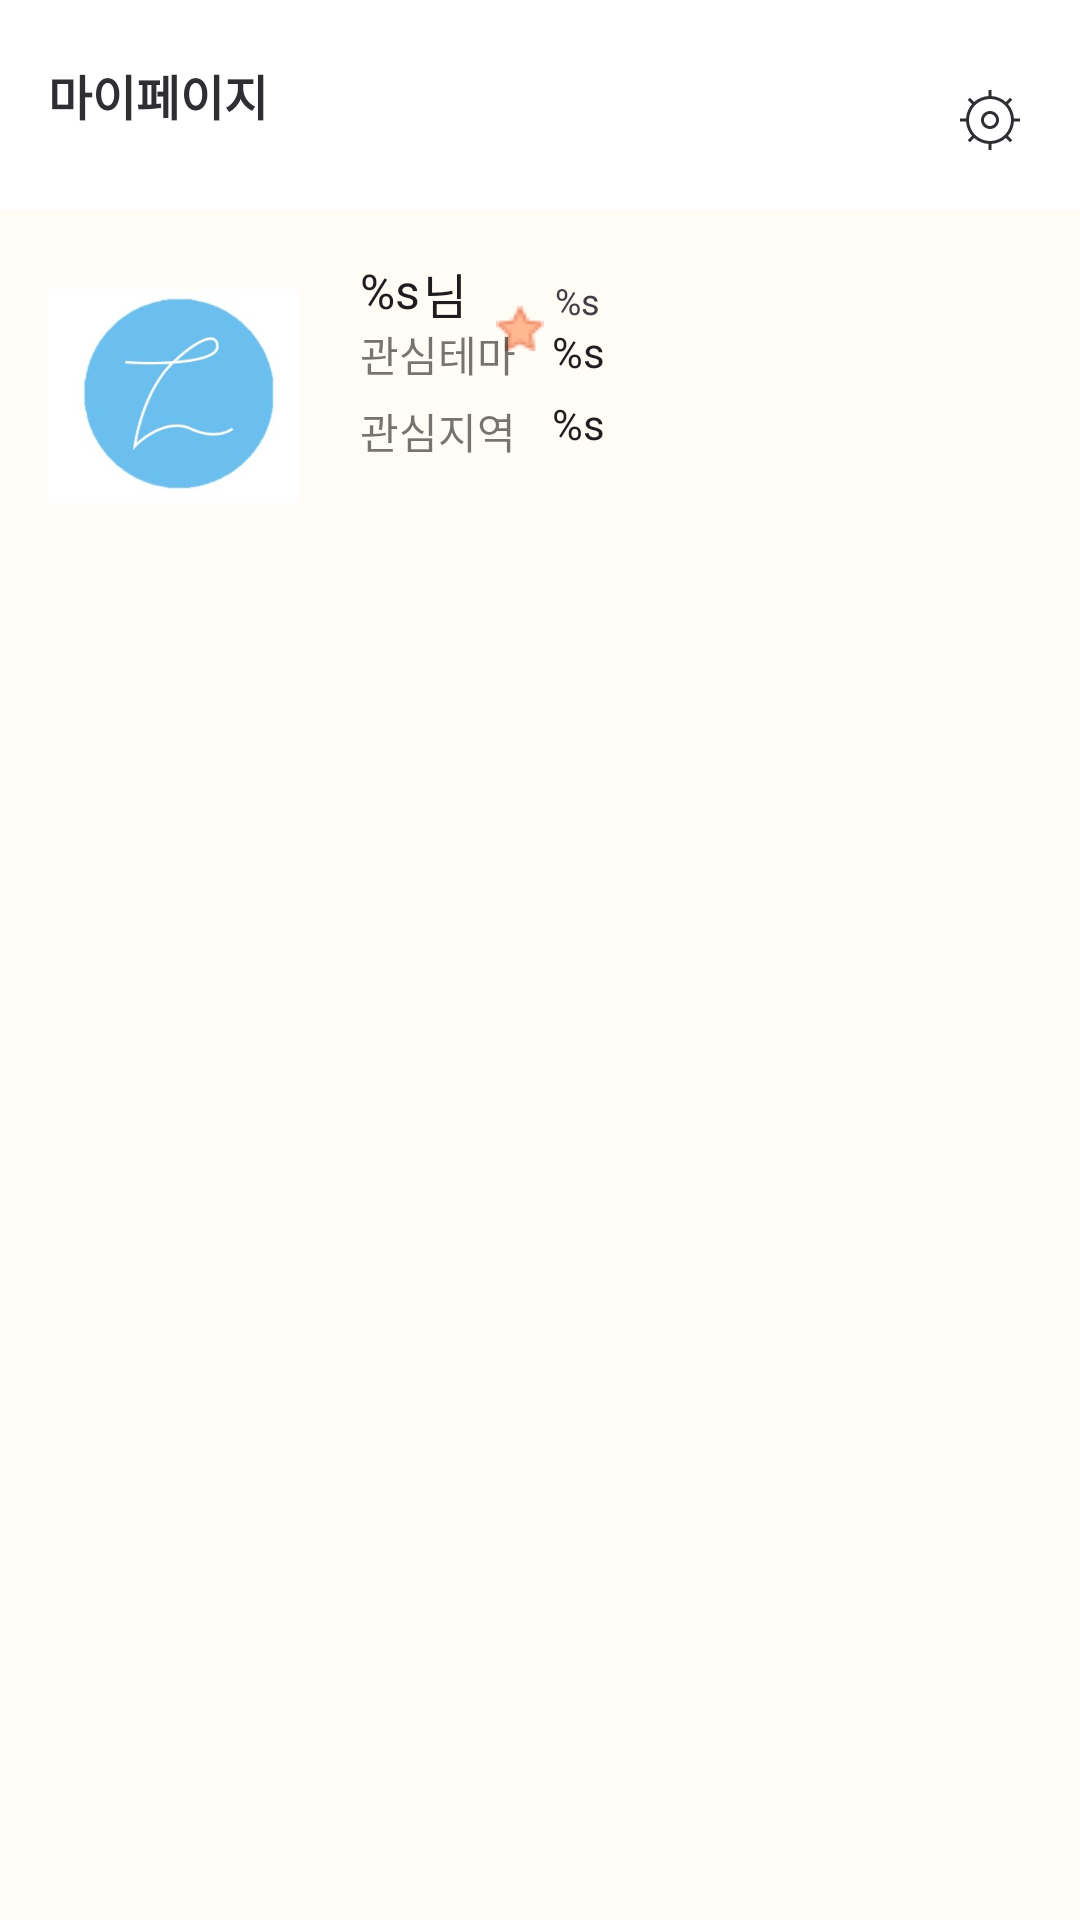

Locate icon controls on the screen. Image size 1080px x 1920px, boxes as (x1, y1, x2, y2).
full star: (496, 306, 544, 351)
setting: (960, 90, 1020, 150)
